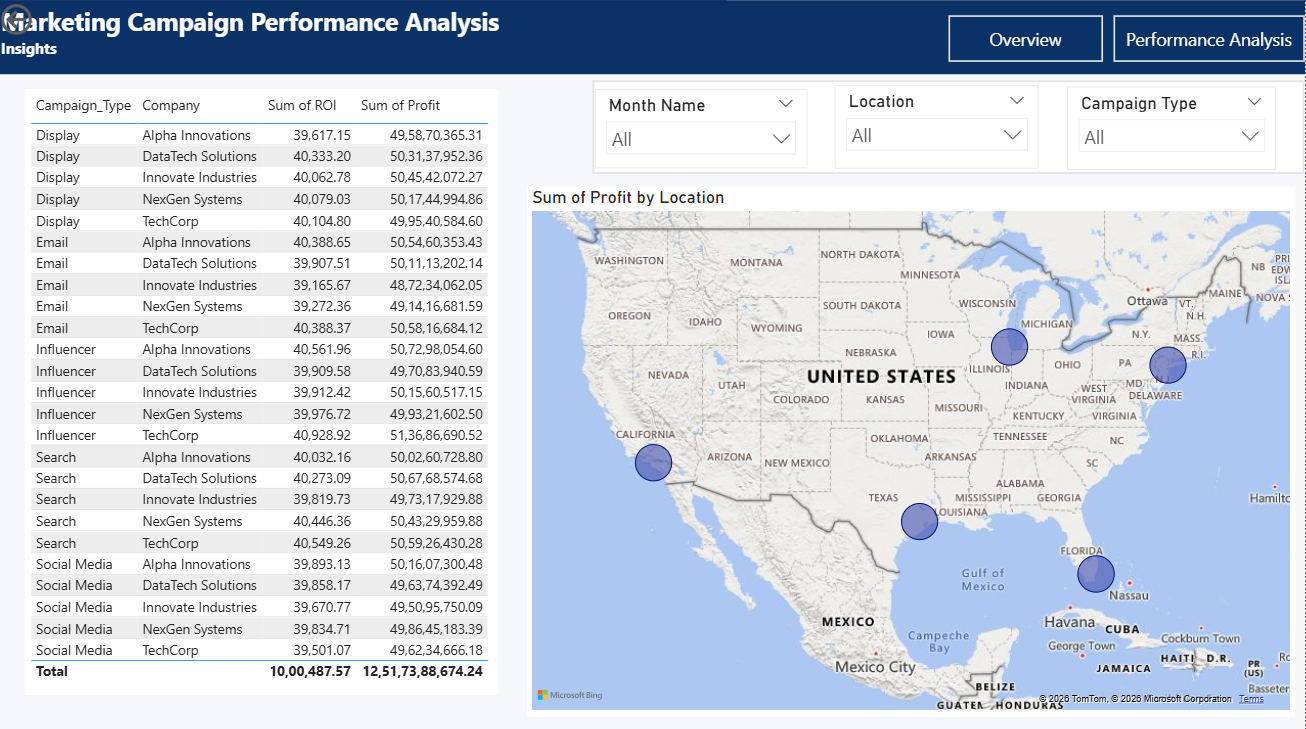

What the dashboard file says about the page in this screenshot:
{"tool":"powerbi","page":{"name":"Page 3","canvas":[1280,720],"ordinal":2},"visuals":[{"type":"actionButton","box":[931.4,15.9,151.5,45.2],"z":0,"group":"g2"},{"type":"shape","box":[583.3,79.5,697,91.7],"z":0,"group":"g1"},{"type":"tableEx","fields":{"Values":["cleaned_marketing_data.Campaign_Type","cleaned_marketing_data.Company","Sum(cleaned_marketing_data.ROI)"]},"box":[28.1,88,347.3,612.6],"z":0},{"type":"actionButton","box":[1092.8,15.6,187.5,45.2],"z":1000,"group":"g2"},{"type":"slicer","fields":{"Values":["cleaned_marketing_data.Location"]},"box":[820.2,83.8,199.3,81.9],"z":1000,"group":"g1"},{"type":"map","fields":{"Category":["cleaned_marketing_data.Location"],"Size":["Avg(cleaned_marketing_data.ROI)"]},"box":[406,185.9,864.5,514.8],"z":1000},{"type":"textbox","box":[0,1.2,714.8,72.1],"z":2000,"group":"g2"},{"type":"group","id":"g1","title":"Group 1","box":[583.3,79.5,697,91.7],"z":2000},{"type":"slicer","fields":{"Values":["cleaned_marketing_data.Month_Name"]},"box":[585.4,88.3,207.9,77.9],"z":2000,"group":"g1"},{"type":"group","id":"g2","title":"Group 2","box":[0,1.2,1280.3,72.1],"z":3000},{"type":"slicer","fields":{"Values":["cleaned_marketing_data.Campaign_Type"]},"box":[1047.6,85,204.2,81.9],"z":3000,"group":"g1"}]}

Visuals, with their boxes in screenshot pixels (x1, y1, x2, y2), scaled from the page's 1280x720 canvas onto the 1306x729 screenshot:
actionButton: (left=950, top=16, right=1105, bottom=62)
shape: (left=595, top=80, right=1305, bottom=173)
tableEx - cleaned_marketing_data.Campaign_Type x cleaned_marketing_data.Company: (left=29, top=89, right=383, bottom=709)
actionButton: (left=1115, top=16, right=1305, bottom=62)
slicer - cleaned_marketing_data.Location: (left=837, top=85, right=1040, bottom=168)
map - cleaned_marketing_data.Location x Avg(cleaned_marketing_data.ROI): (left=414, top=188, right=1296, bottom=709)
textbox: (left=0, top=1, right=729, bottom=74)
"Group 1" group: (left=595, top=80, right=1305, bottom=173)
slicer - cleaned_marketing_data.Month_Name: (left=597, top=89, right=809, bottom=168)
"Group 2" group: (left=0, top=1, right=1305, bottom=74)
slicer - cleaned_marketing_data.Campaign_Type: (left=1069, top=86, right=1277, bottom=169)
